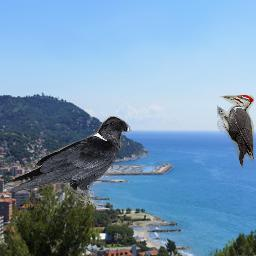Crow: (3, 116, 132, 208)
Woodpecker: (217, 95, 254, 169)
